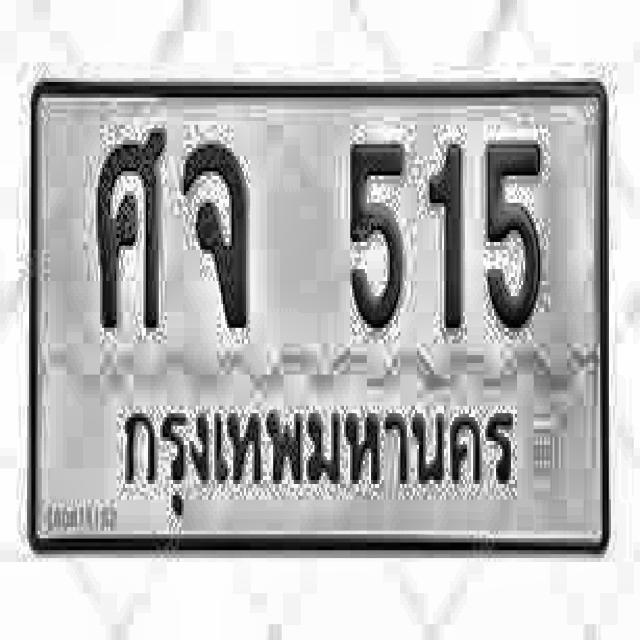license-plate: (22, 65, 622, 567)
